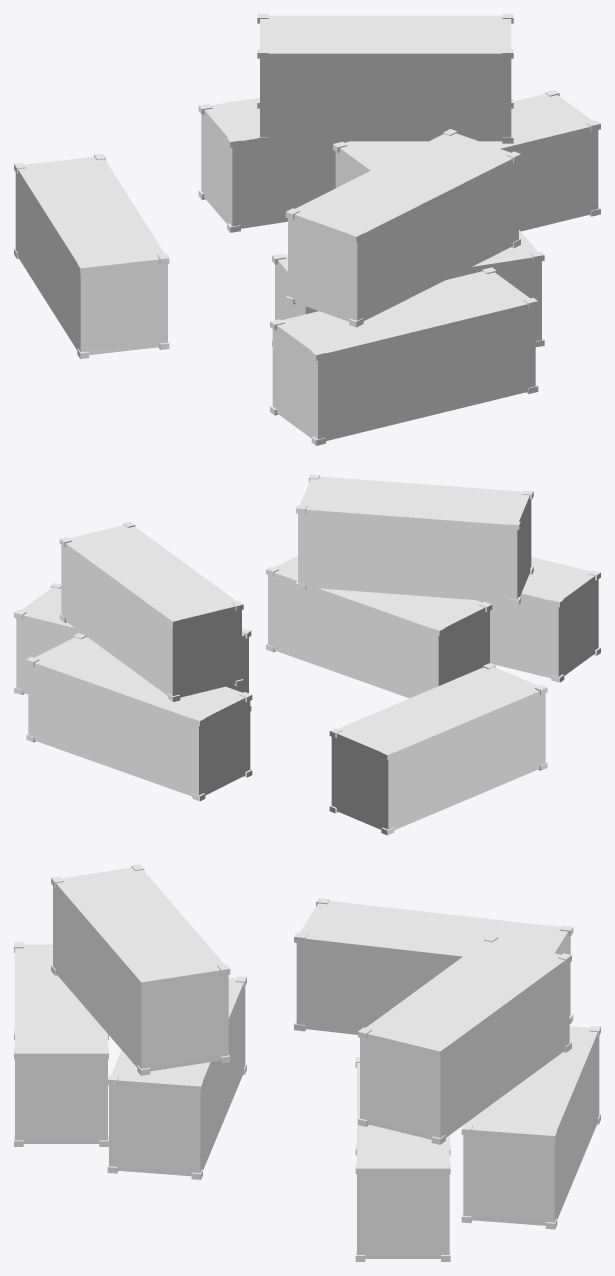
File: Container3_Closed0.fbx
3 views of the same model, one above another, from view 1: azimuth 30°, elevation 25°; view 2: azimuth 150°, elevation 25°; view 3: azimuth 270°, elevation 25° (orthographic). The views are drawn at different scales.
Parts seen in each view (by area): view 1: Container3_Closed0; view 2: Container3_Closed0; view 3: Container3_Closed0.
Part boxes in pixels (x1,y1,x2,y2): Container3_Closed0: (14, 14, 600, 445); Container3_Closed0: (14, 474, 600, 835); Container3_Closed0: (14, 864, 600, 1261).
Bounding box in the file's own units: 1657 × 1520 × 534.
